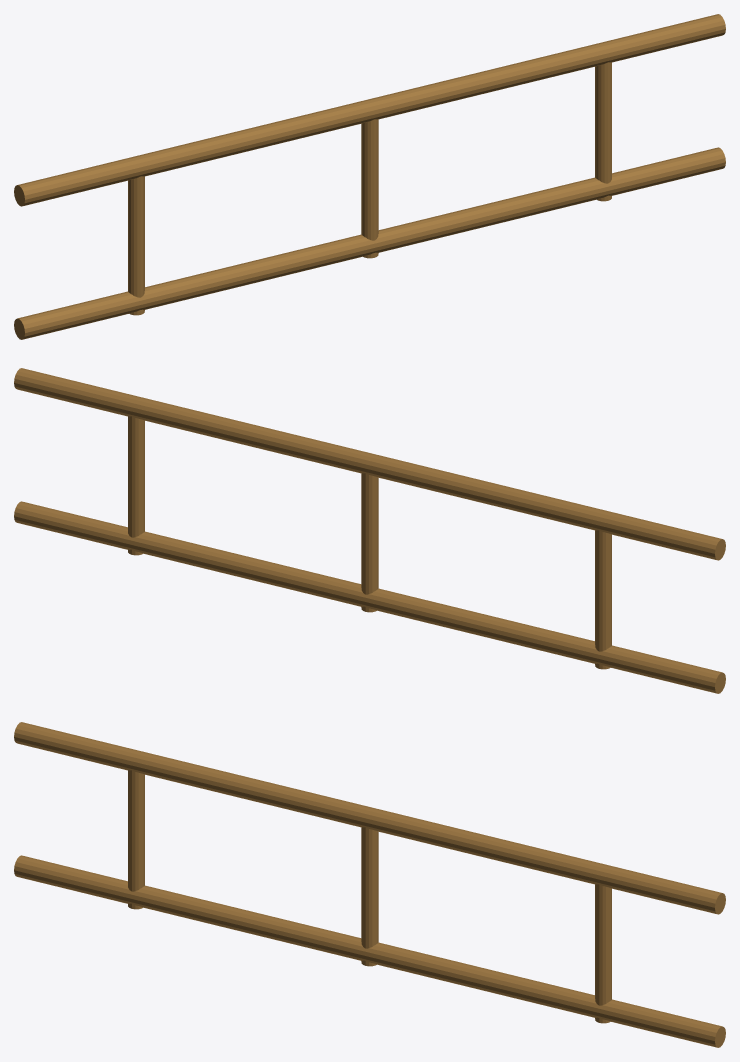
File: steam-rail-v01.glb
3 renders of one model, top to bottom at view 1: azimuth 30°, elevation 25°; view 2: azimuth 150°, elevation 25°; view 3: azimuth 330°, elevation 25°, orthographic.
Parts seen in each view (by area): view 1: Steam Bronze • forged warm; view 2: Steam Bronze • forged warm; view 3: Steam Bronze • forged warm.
Part boxes in pixels (<box>): Steam Bronze • forged warm: <box>14,14,725,339</box>; Steam Bronze • forged warm: <box>14,368,725,693</box>; Steam Bronze • forged warm: <box>14,722,725,1047</box>.
Size of the model in its own units: 3.3 by 0.695 by 0.09.
